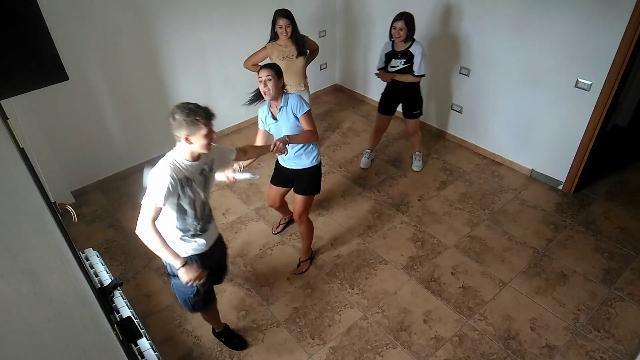non-violence: (244, 7, 322, 171), (360, 12, 426, 172)
violence: (136, 61, 324, 355)
